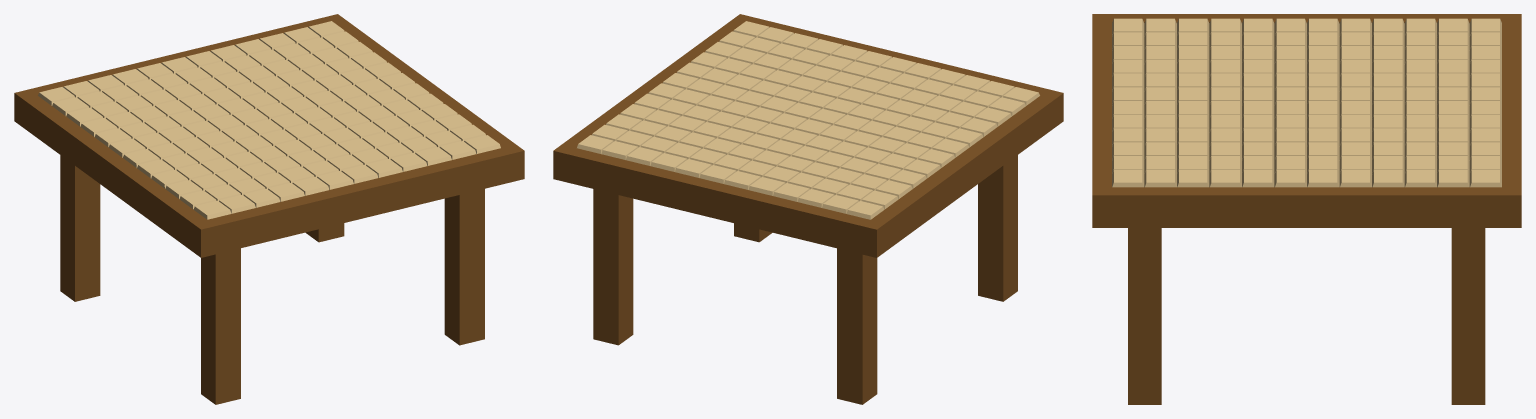
The model's file is meja2_stage3-4_low poly.fbx.
3 renders of one model, left to right at view 1: azimuth 30°, elevation 25°; view 2: azimuth 150°, elevation 25°; view 3: azimuth 270°, elevation 25°, orthographic. The views are drawn at different scales.
Visible parts, largest first — view 1: Cube.021; view 2: Cube.021; view 3: Cube.021.
Boxes of the visible parts, x1,y1,x2,y2 form: Cube.021: (14,14,524,404); Cube.021: (553,14,1063,404); Cube.021: (1092,14,1521,404).
Size of the model in its own units: 185 by 108 by 185.
